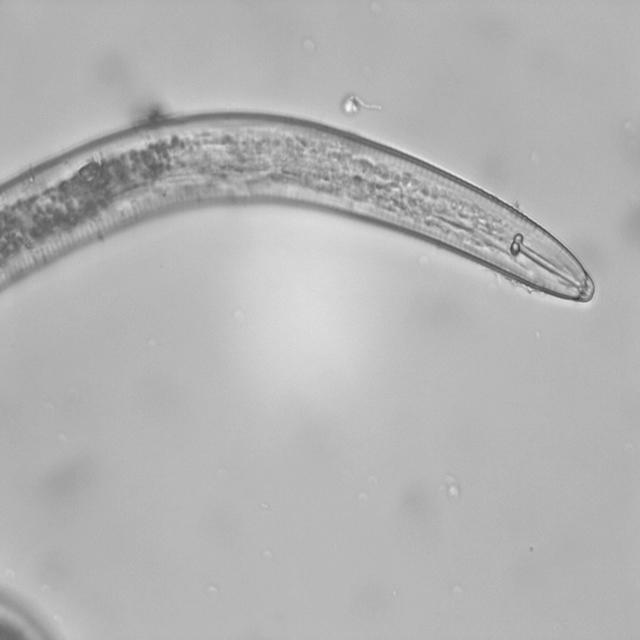Helicotylenchus: (0, 85, 602, 309)
